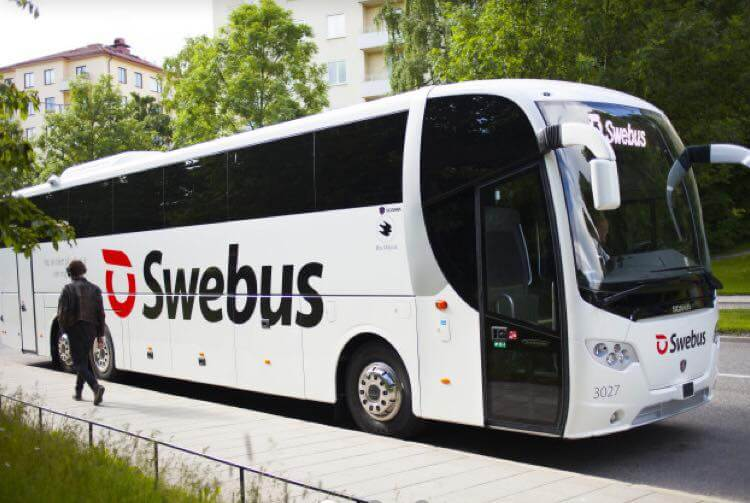bus: (243, 76, 720, 439)
